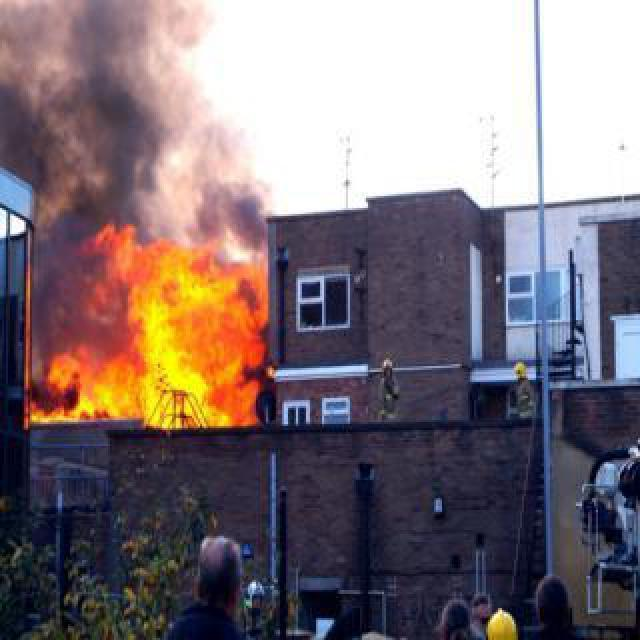Fire: (80, 240, 266, 416)
Smoke: (2, 6, 272, 254), (26, 374, 76, 418)
